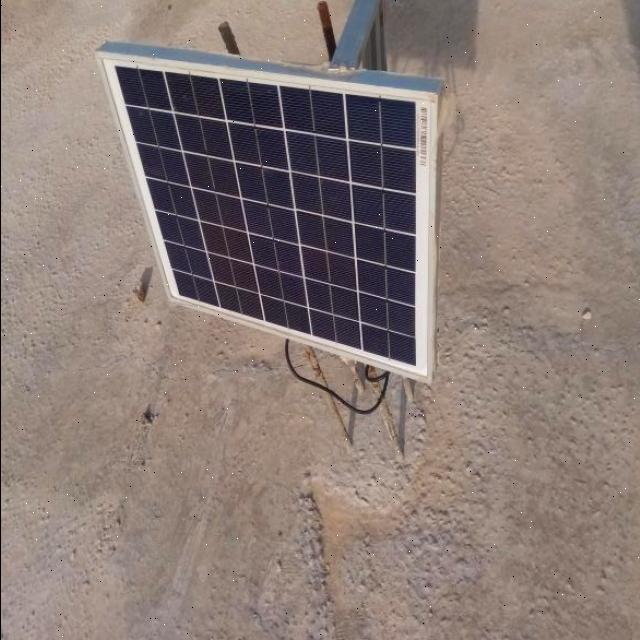Normal Solar Panel: (97, 58, 435, 384)
